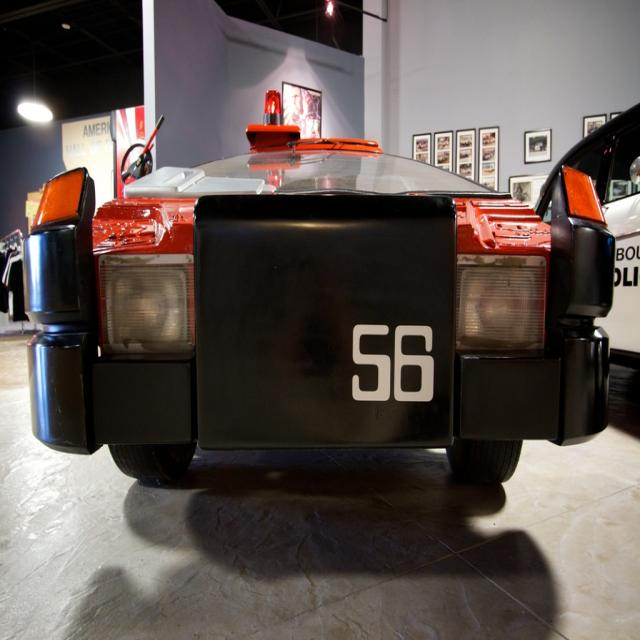car: (22, 87, 616, 500)
